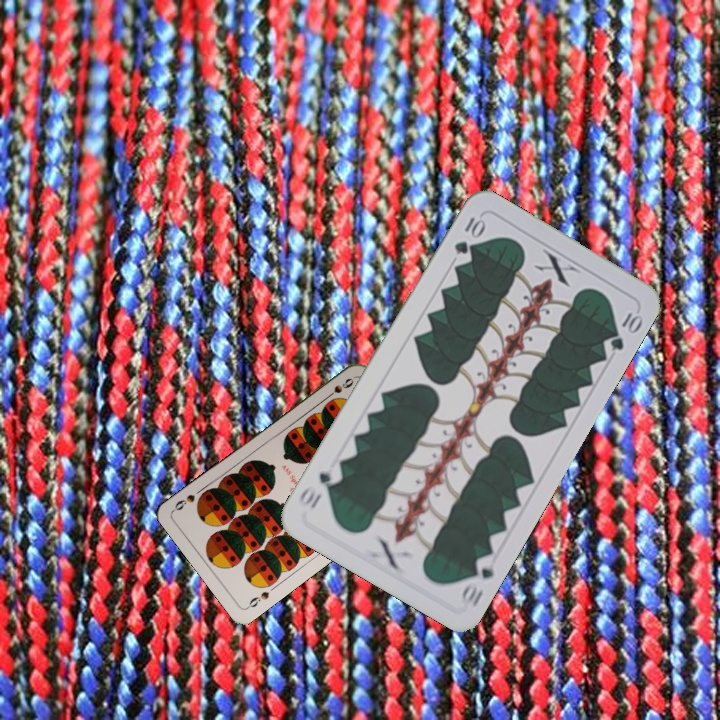G10: (457, 551, 499, 610), (450, 212, 487, 257)
S9: (321, 374, 356, 402), (243, 587, 272, 612)
